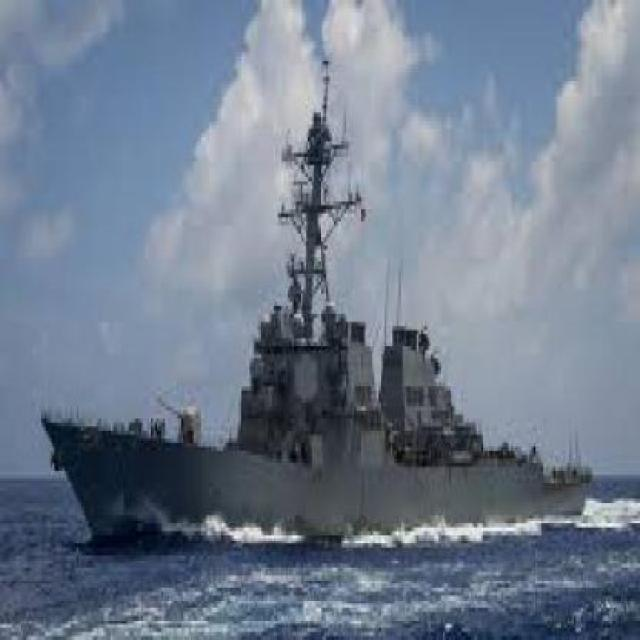warship2: (40, 50, 607, 573)
